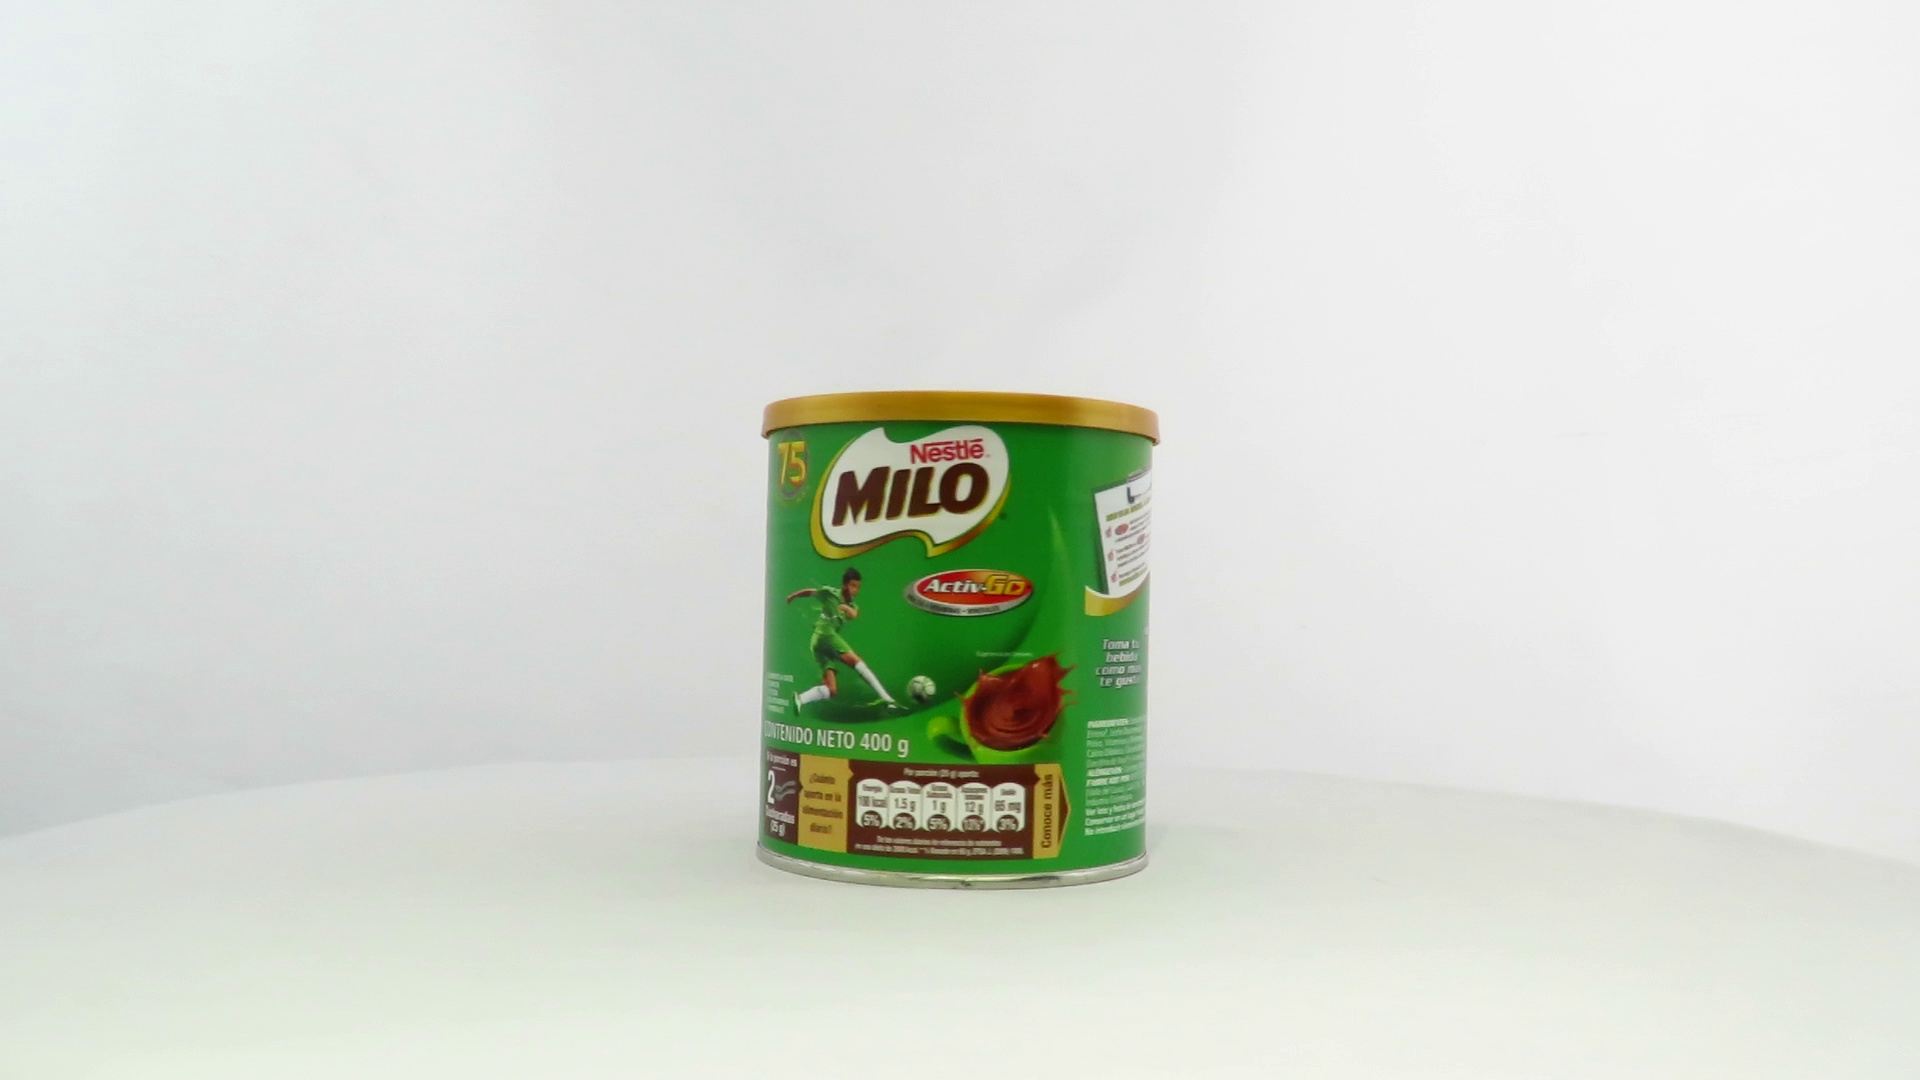COL0170203LAT40000: (750, 385, 1166, 897)
